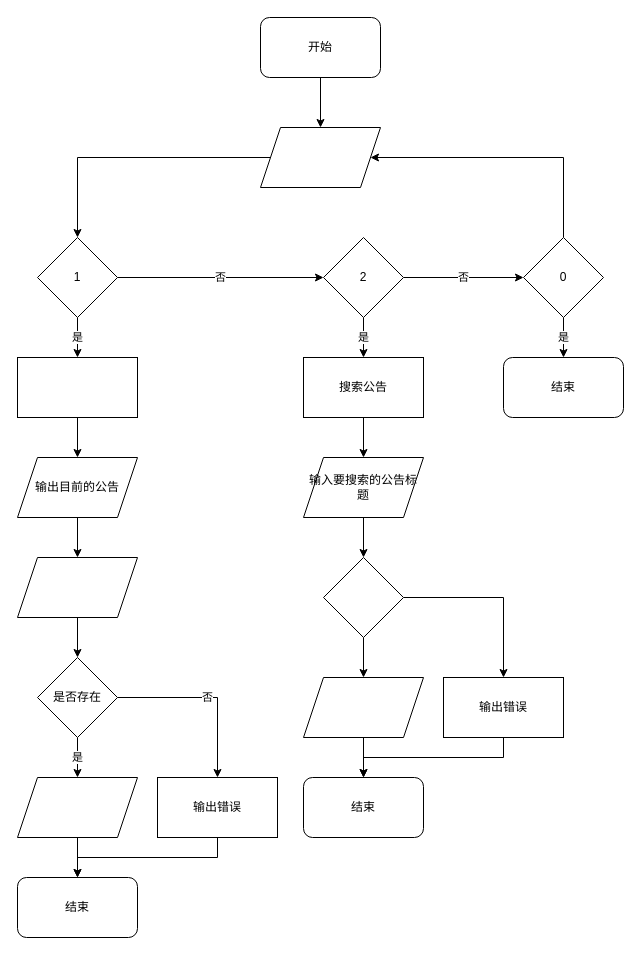
Image size: 641x955. Some labels were removed from this diagram. Here are the shapes that lost their labels. From the top down, the centre of each, then its label:
At point (320, 157): "选择功能".
At point (77, 387): "查看公告".
At point (77, 587): "输入要查看的公告编号".
At point (363, 597): "是否搜索到".
At point (363, 707): "输出公告信息".
At point (77, 807): "输出公告内容".
